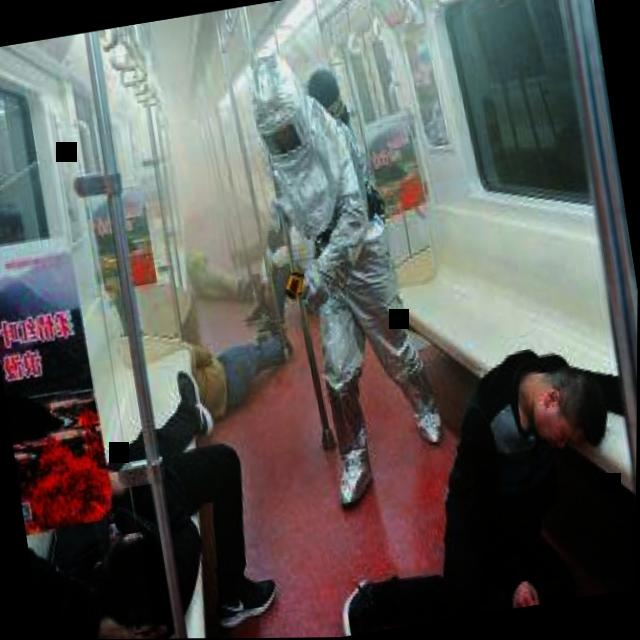Fall-Detected: (4, 354, 295, 640)
